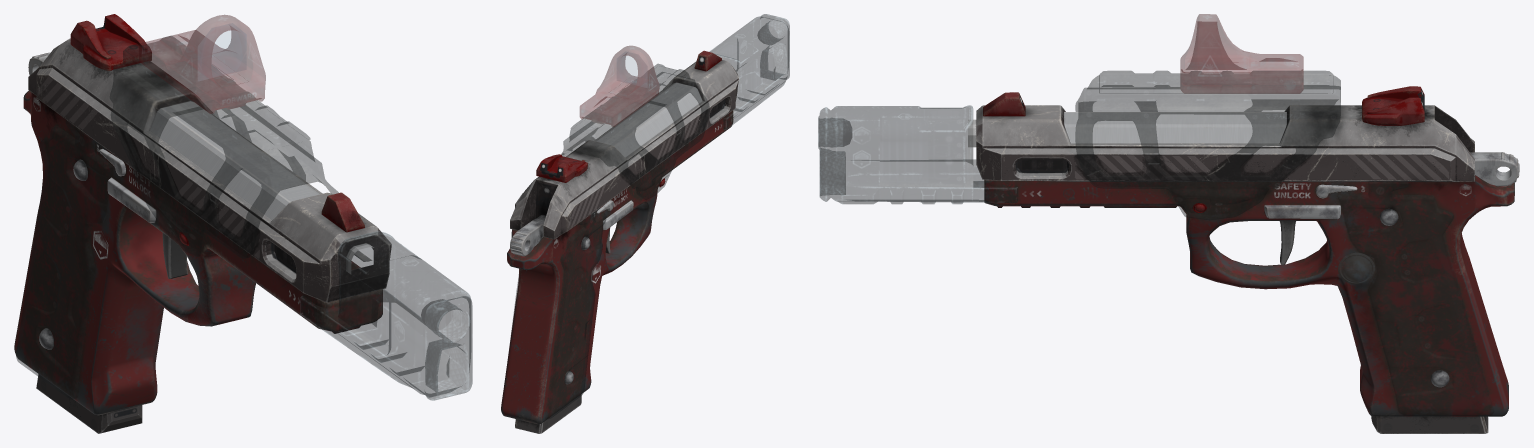
File: renetti_pistol_-_red_paint_skin.glb
The picture shows the model from 3 angles, left to right: view 1: azimuth 30°, elevation 25°; view 2: azimuth 150°, elevation 25°; view 3: azimuth 270°, elevation 25°; orthographic projection. The views are drawn at different scales.
Parts seen in each view (by area): view 1: Renettish2_lauf, scope_holder, compensator, griff, scope; view 2: Renettish2_lauf, scope_holder, griff, compensator, scope; view 3: Renettish2_lauf, scope_holder, griff, compensator, scope, magazine_eject.
Part boxes in pixels (box(x1,y1,x2,y2)): Renettish2_lauf: box(14, 14, 391, 433); scope_holder: box(110, 36, 338, 258); compensator: box(300, 231, 472, 400); griff: box(16, 120, 112, 398); scope: box(139, 15, 265, 113); Renettish2_lauf: box(501, 50, 738, 433); scope_holder: box(561, 64, 709, 199); griff: box(512, 212, 606, 419); compensator: box(709, 14, 789, 129); scope: box(580, 46, 659, 126); Renettish2_lauf: box(968, 86, 1519, 433); scope_holder: box(1075, 71, 1340, 219); griff: box(1338, 182, 1493, 415); compensator: box(818, 105, 1017, 203); scope: box(1180, 14, 1303, 93); magazine_eject: box(1338, 253, 1374, 284).
Size of the model in its own units: 9.41 by 43.25 by 67.27.
2 materials, 2 textured.
